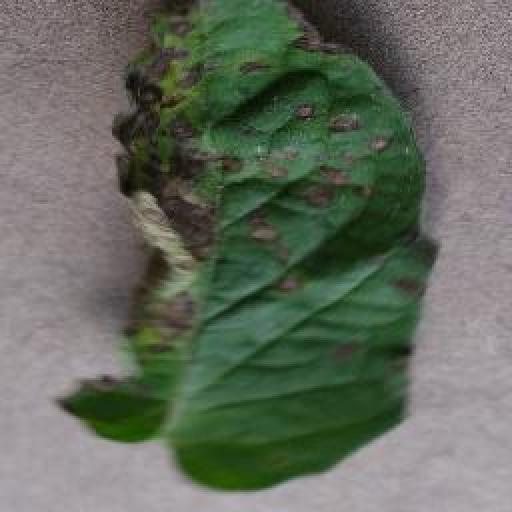Early Blight: (55, 1, 439, 492)
